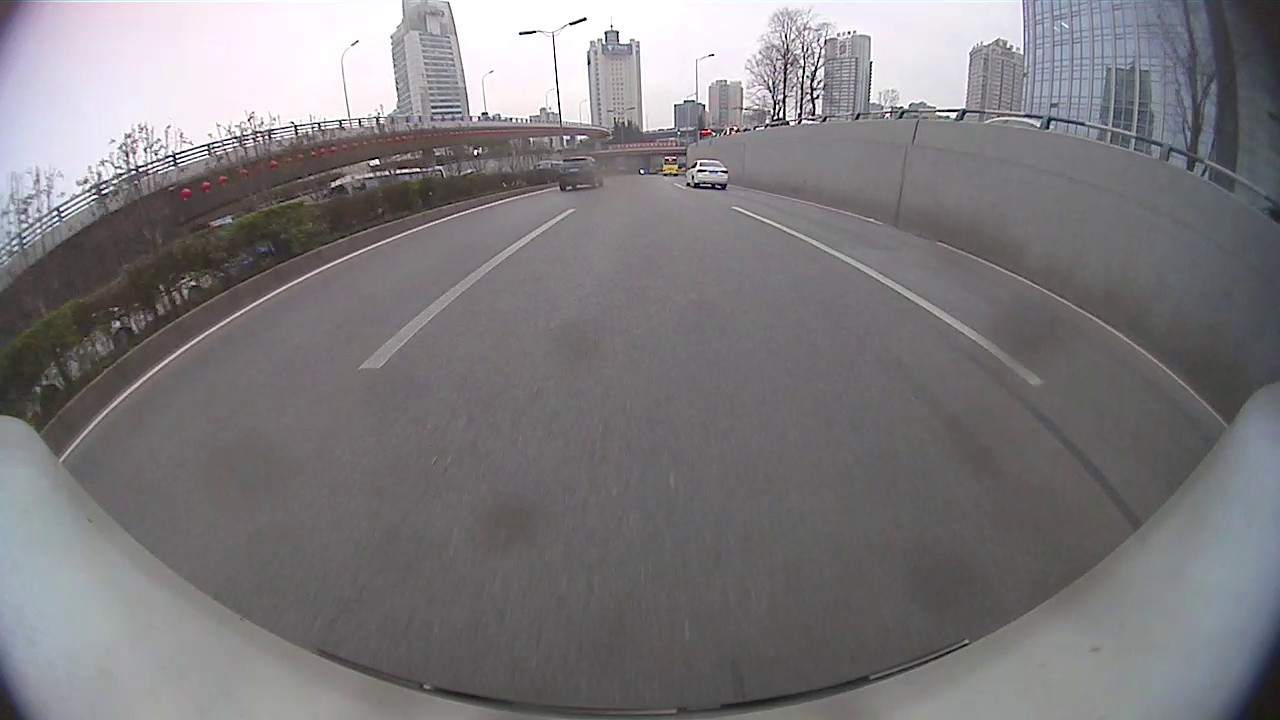bus: (320, 163, 450, 205)
car: (556, 154, 606, 193), (682, 157, 732, 191)
